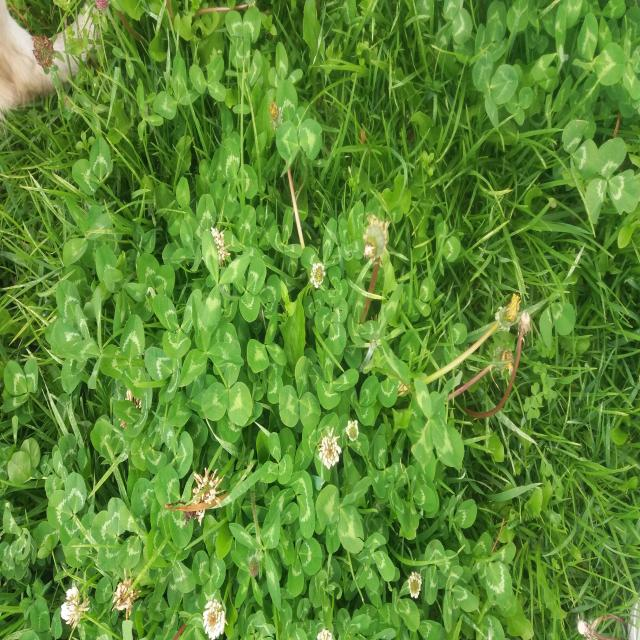Four Leaf Clover: (178, 294, 244, 387)
